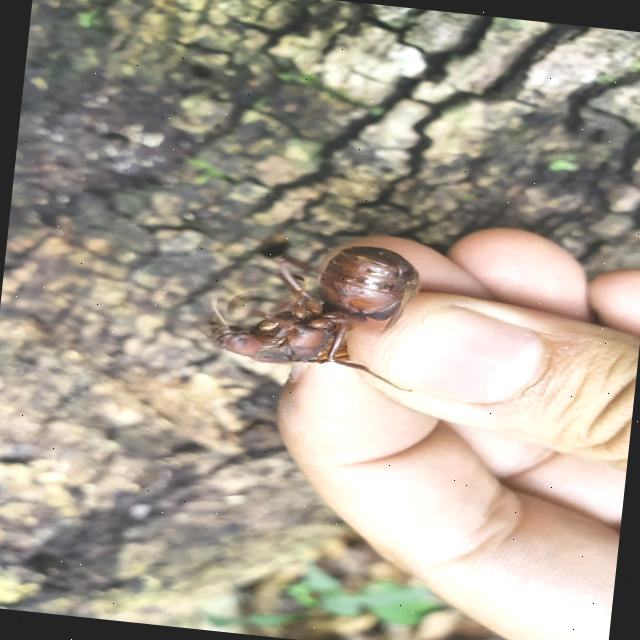Alive-Female-Alate: (186, 228, 426, 392)
